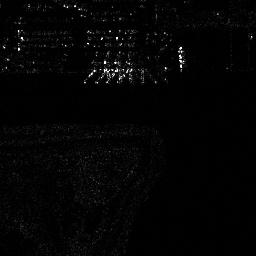ship: (176, 45, 185, 72)
